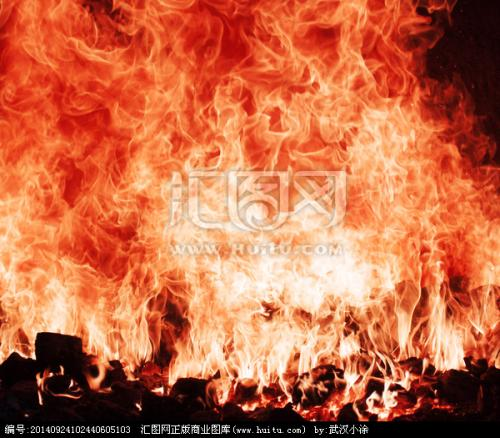fire: (9, 8, 493, 164), (14, 249, 491, 343)
